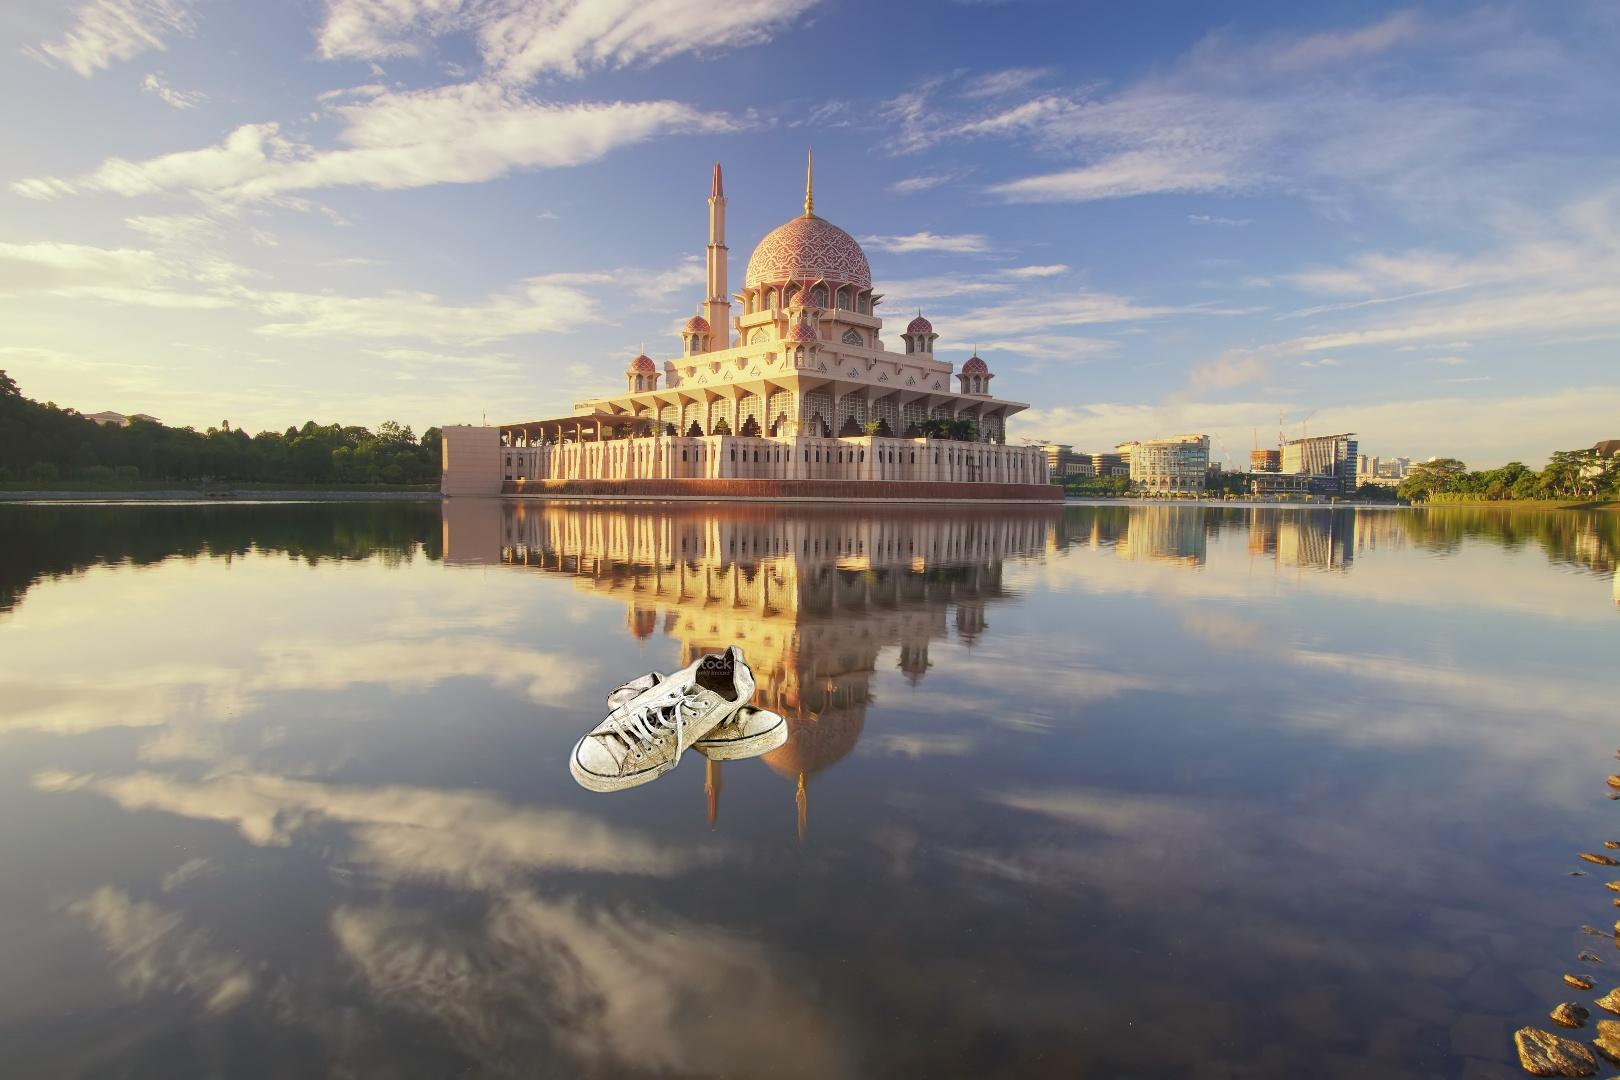shoes: (567, 642, 792, 796)
